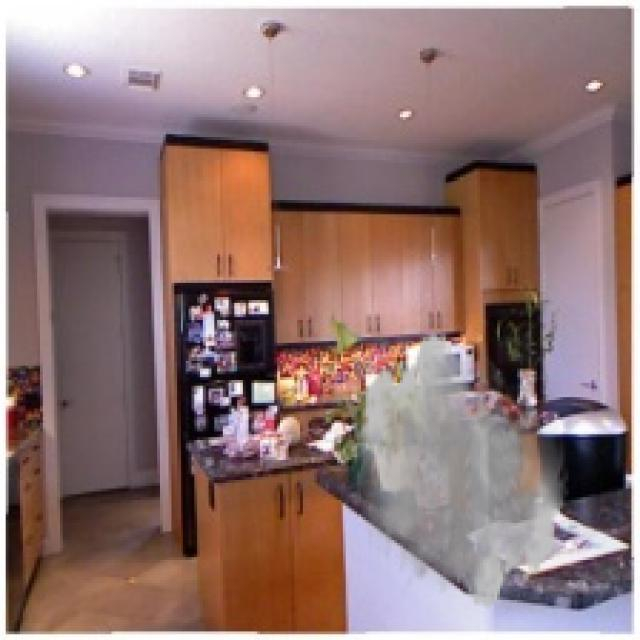Smoke: (352, 328, 568, 612)
